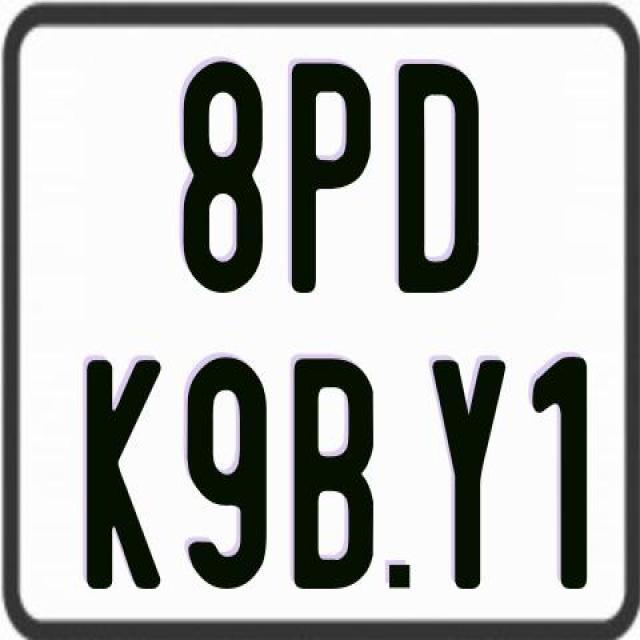1: (532, 356, 587, 596)
8: (180, 59, 268, 296)
9: (182, 356, 270, 594)
B: (293, 356, 376, 594)
D: (398, 61, 486, 300)
K: (85, 358, 168, 590)
P: (292, 61, 376, 296)
Y: (428, 355, 504, 592)
